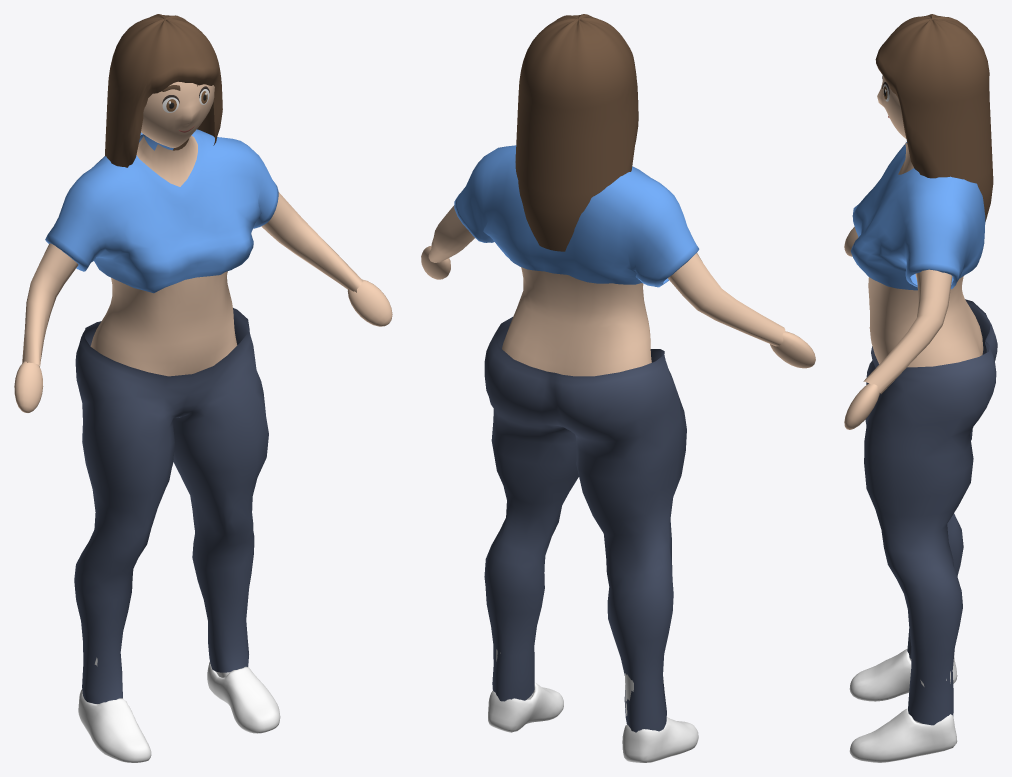
Rendered from avatar_female.glb.
3 renders of one model, left to right at view 1: azimuth 30°, elevation 25°; view 2: azimuth 150°, elevation 25°; view 3: azimuth 270°, elevation 25°, orthographic. The views are drawn at different scales.
Visible parts, largest first — view 1: Bottom, Body, Top, Hair, Shoes; view 2: Bottom, Hair, Body, Top, Shoes; view 3: Bottom, Hair, Top, Body, Shoes.
Boxes of the visible parts, x1=… form: Bottom: x1=74, y1=308, x2=268, y2=703; Body: x1=14, y1=81, x2=392, y2=412; Top: x1=45, y1=129, x2=278, y2=293; Hair: x1=105, y1=14, x2=222, y2=167; Shoes: x1=78, y1=657, x2=280, y2=762; Bottom: x1=484, y1=317, x2=686, y2=732; Hair: x1=515, y1=14, x2=638, y2=251; Body: x1=421, y1=205, x2=815, y2=376; Top: x1=454, y1=145, x2=699, y2=287; Shoes: x1=488, y1=649, x2=698, y2=762; Bottom: x1=864, y1=299, x2=997, y2=725; Hair: x1=875, y1=14, x2=993, y2=221; Top: x1=850, y1=142, x2=985, y2=290; Body: x1=844, y1=77, x2=983, y2=429; Shoes: x1=849, y1=648, x2=957, y2=762.
Bounding box in the file's own units: 0.936 × 1.68 × 0.3292.
